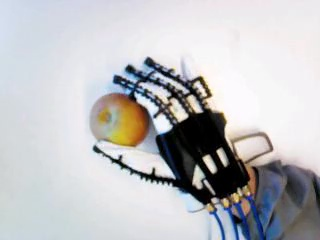apple: (89, 92, 149, 148)
hand: (91, 55, 252, 214), (89, 92, 149, 148)
